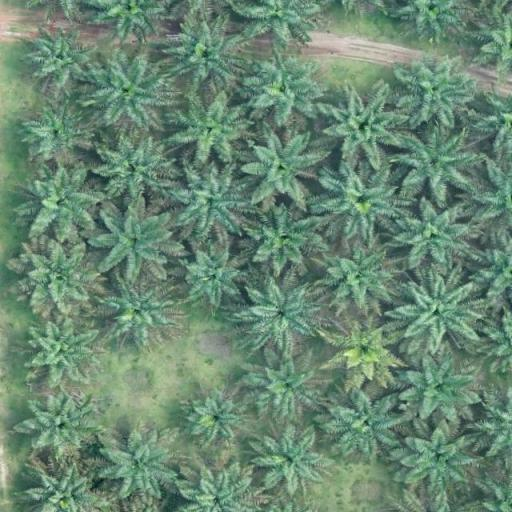Ganoderma: (340, 328, 385, 371)
